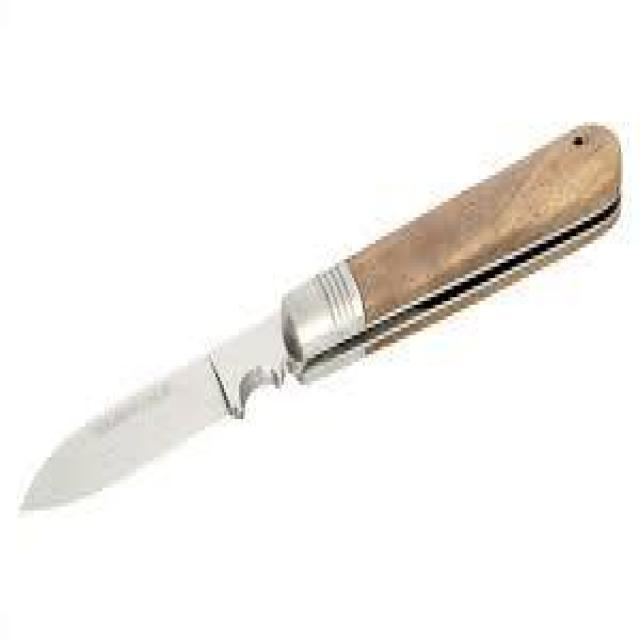Knife: (6, 110, 631, 550)
